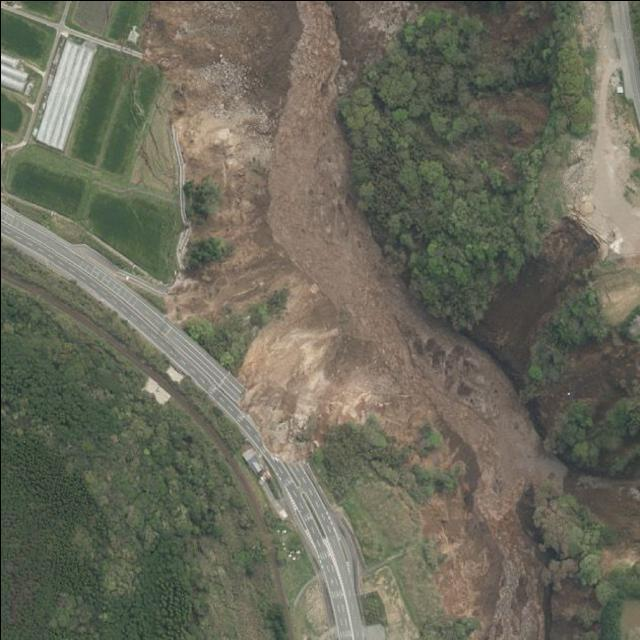landslide: (145, 0, 640, 639), (470, 219, 597, 385)
